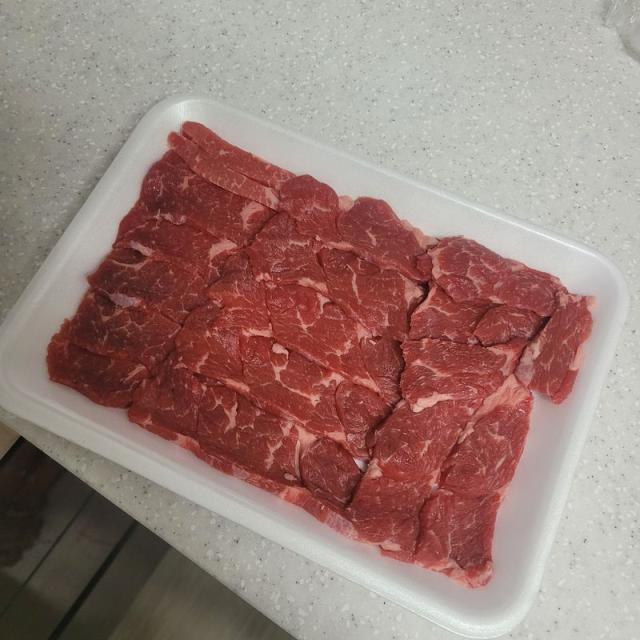beef: (210, 234, 449, 465)
